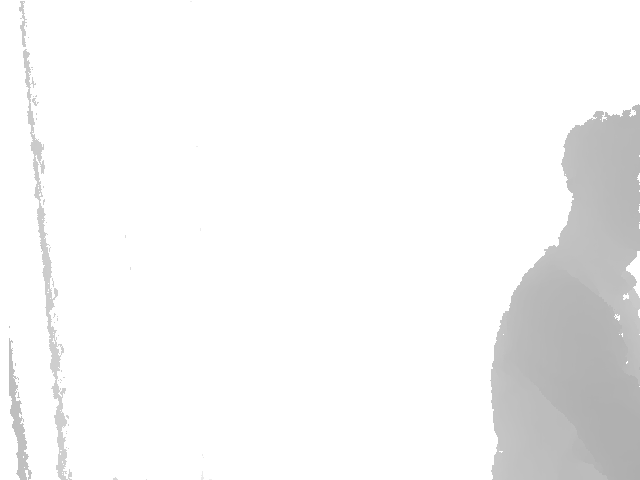head: (561, 109, 640, 254)
person: (489, 104, 640, 480)
